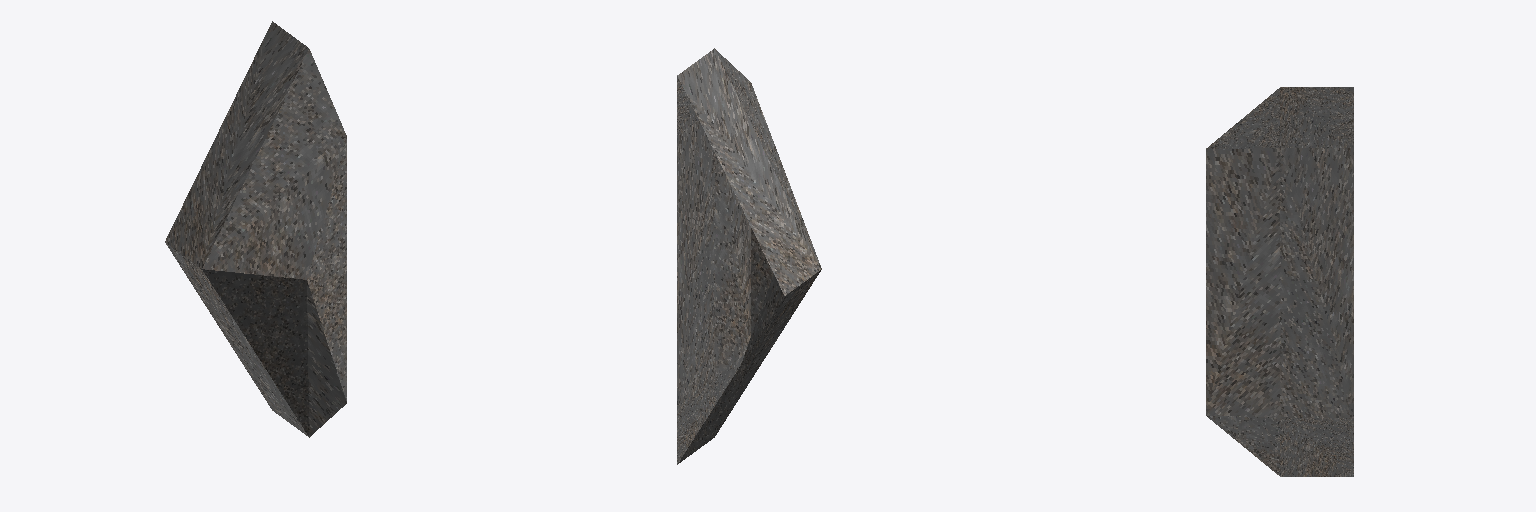
The picture shows the model from 3 angles: view 1: azimuth 30°, elevation 25°; view 2: azimuth 150°, elevation 25°; view 3: azimuth 270°, elevation 25°; orthographic projection.
Visible parts, largest first — view 1: hex; view 2: hex; view 3: hex.
Boxes of the visible parts, x1=… form: hex: x1=165, y1=21, x2=346, y2=437; hex: x1=677, y1=48, x2=821, y2=464; hex: x1=1206, y1=87, x2=1353, y2=476.
Size of the model in its own units: 0.5028 by 1.73 by 0.6.
Materials: 1 (1 with a texture image).